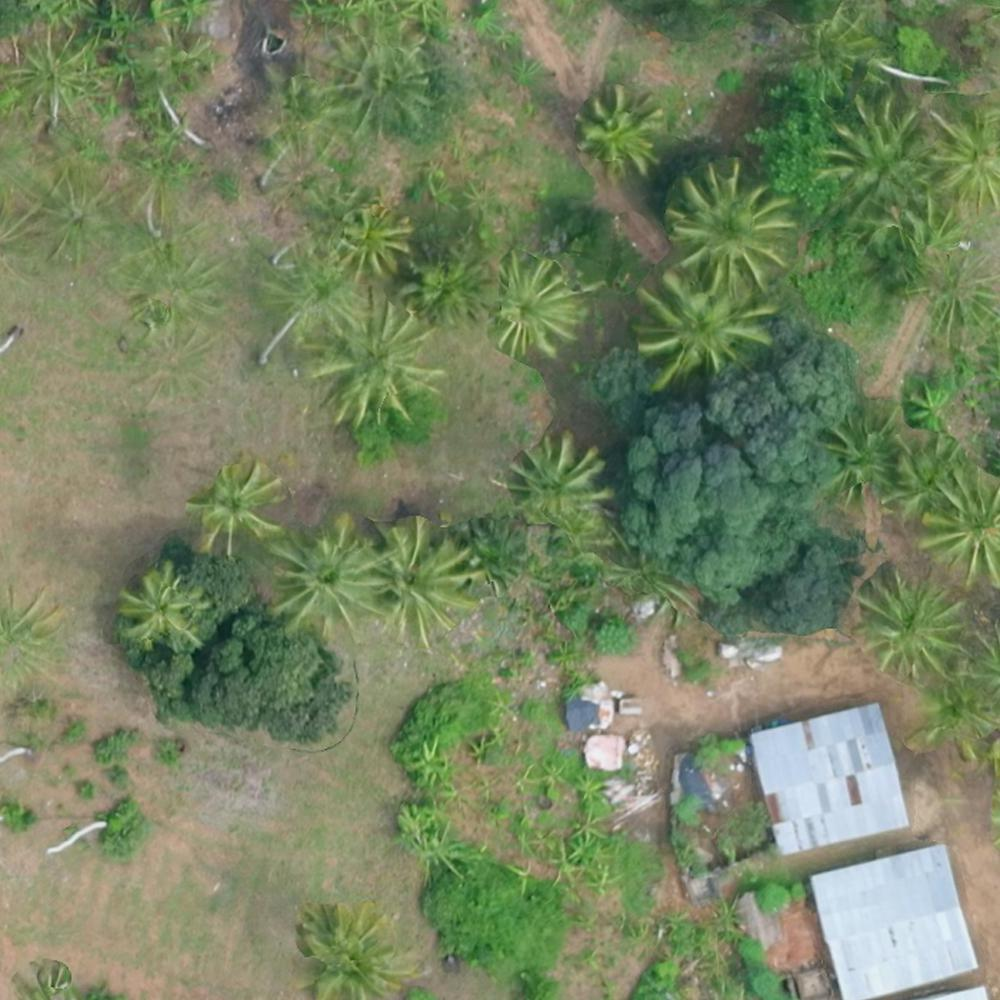Palm: (316, 299, 441, 418), (367, 515, 480, 640), (668, 167, 785, 284), (821, 96, 934, 217), (638, 274, 764, 377), (266, 522, 378, 631), (296, 902, 412, 1000), (918, 464, 1000, 583), (860, 578, 963, 669), (111, 565, 216, 654), (505, 431, 605, 522), (190, 460, 283, 555), (496, 256, 587, 352), (917, 108, 1000, 209), (576, 89, 661, 176)
